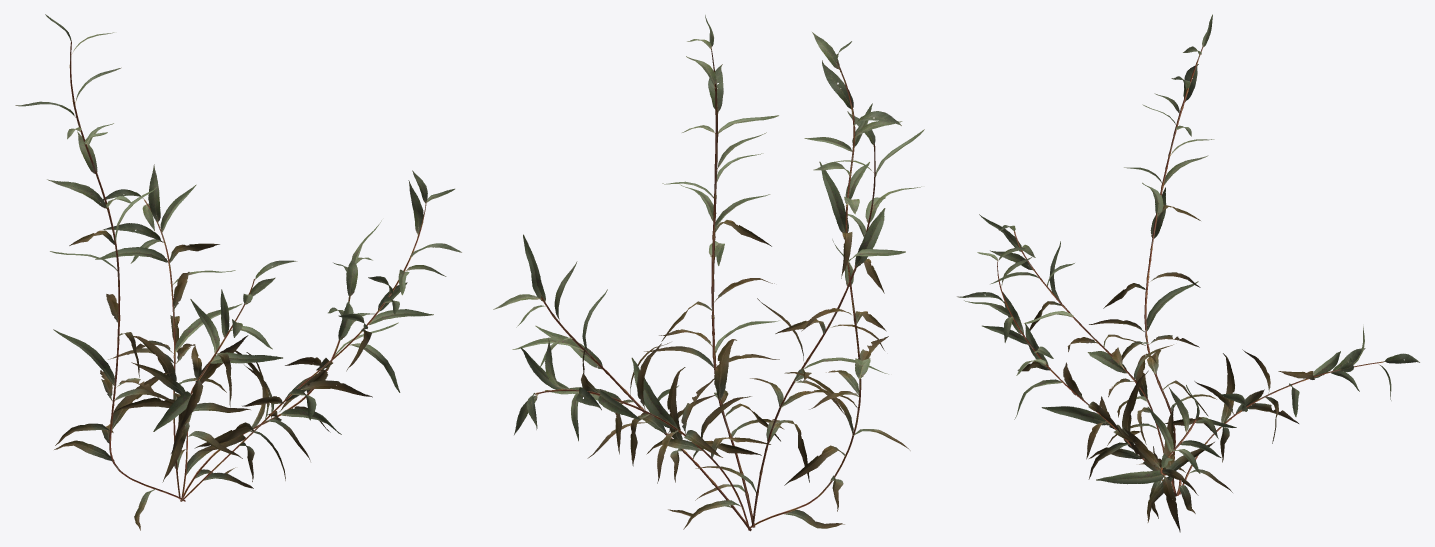
3 views of the same model, side by side, from view 1: azimuth 30°, elevation 25°; view 2: azimuth 150°, elevation 25°; view 3: azimuth 270°, elevation 25° (orthographic). The views are drawn at different scales.
Parts seen in each view (by area): view 1: shrub_02__a_lod0; view 2: shrub_02__a_lod0; view 3: shrub_02__a_lod0.
Part boxes in pixels (bbox=[...]): shrub_02__a_lod0: bbox=[15, 14, 461, 530]; shrub_02__a_lod0: bbox=[493, 15, 924, 531]; shrub_02__a_lod0: bbox=[957, 14, 1419, 532].
Size of the model in its own units: 1.31 by 1.69 by 1.64.
1 material, 1 textured.
